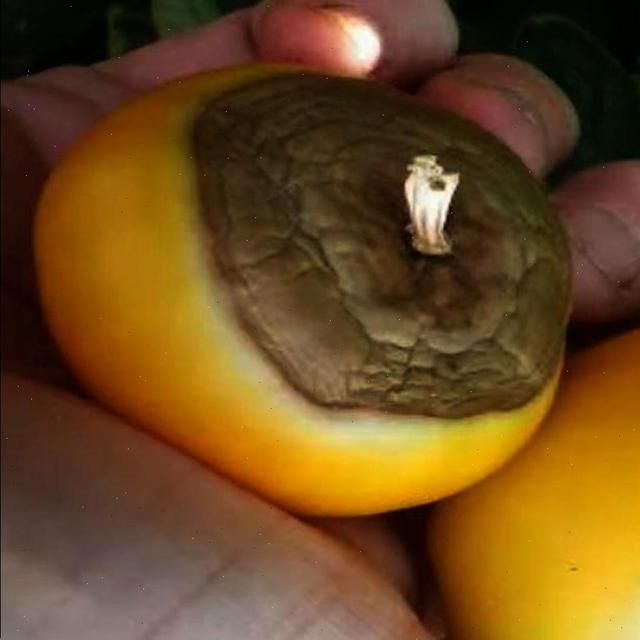Blossom End Rot Fruit: (126, 46, 386, 280)
